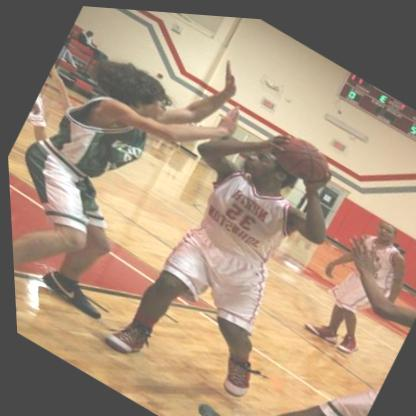basketball: (258, 118, 341, 190)
